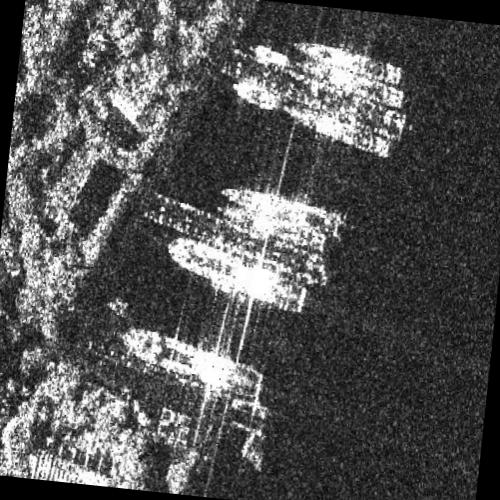ship: (167, 237, 308, 314), (120, 327, 262, 402), (285, 106, 391, 157), (296, 60, 403, 110), (218, 206, 326, 253), (294, 42, 402, 86), (222, 187, 327, 230), (232, 81, 280, 109), (252, 43, 290, 68)
